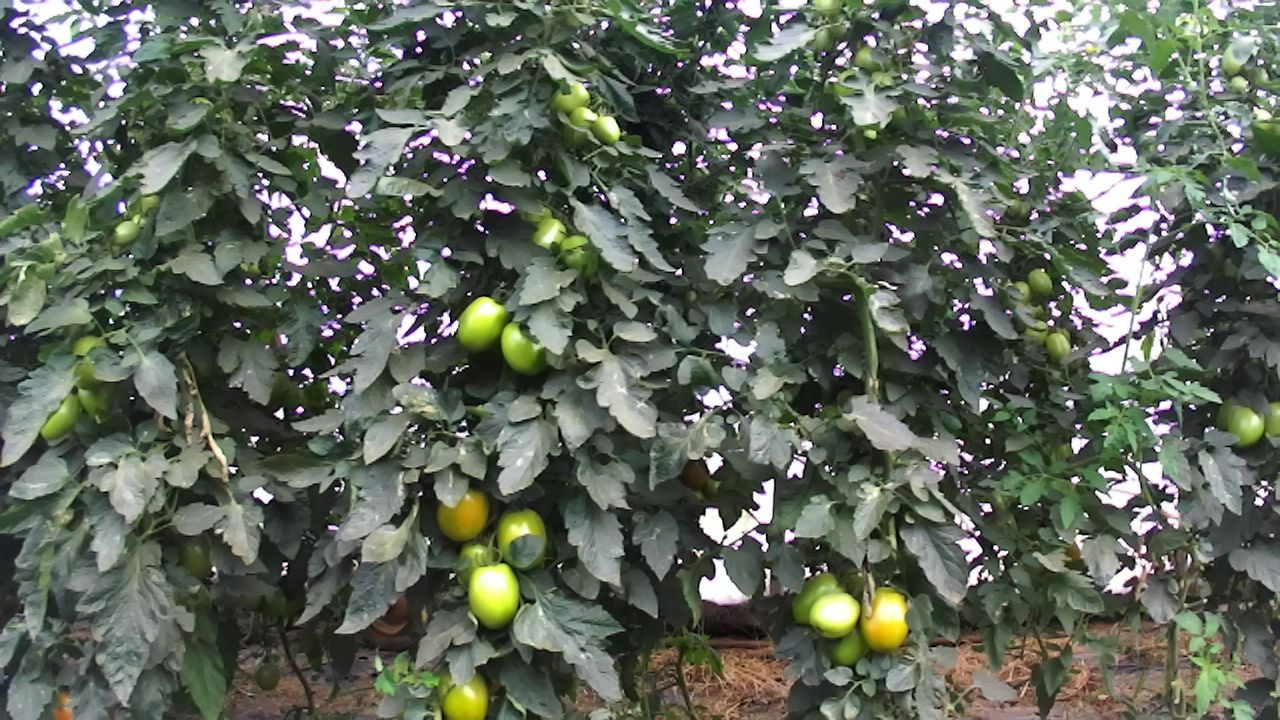tomato: (465, 561, 520, 632), (858, 583, 911, 654), (495, 503, 548, 573), (433, 485, 492, 543), (498, 316, 549, 378), (456, 297, 507, 353), (1217, 394, 1267, 448), (807, 590, 862, 639), (437, 668, 487, 720), (176, 537, 213, 582), (547, 79, 592, 114), (1026, 266, 1055, 300), (109, 216, 141, 246), (593, 113, 622, 146), (1221, 44, 1251, 74), (1046, 331, 1072, 365), (253, 662, 282, 691), (1228, 75, 1247, 91)
